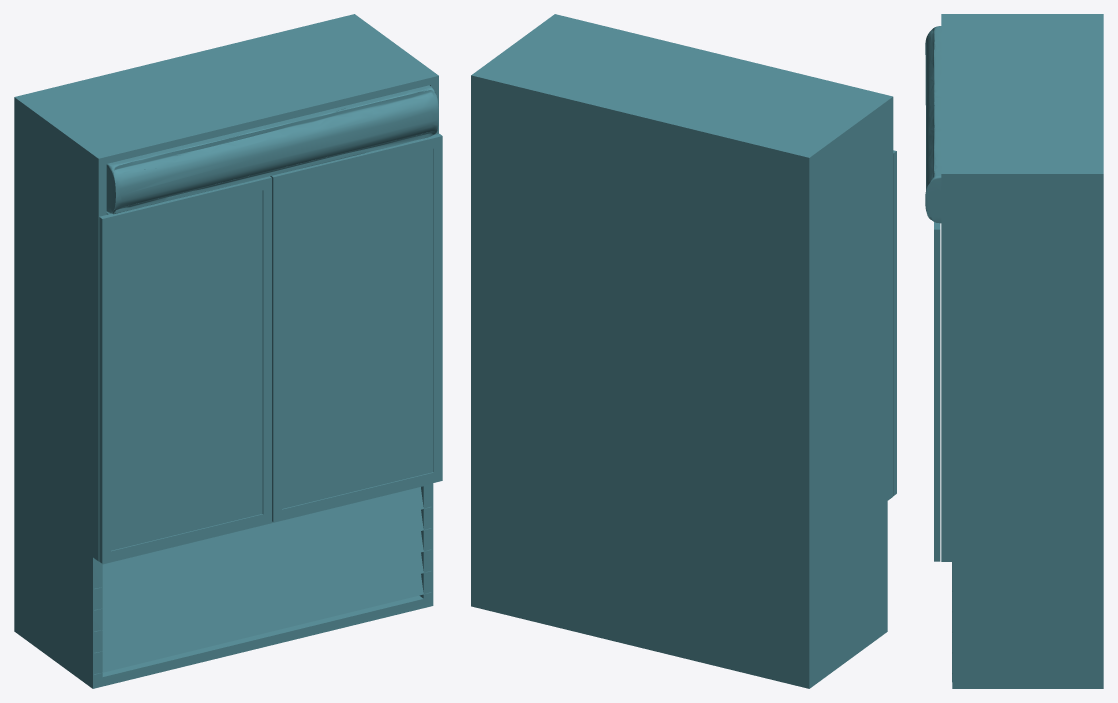
Rendered from walk_in_cooler.glb.
3 renders of one model, left to right at view 1: azimuth 30°, elevation 25°; view 2: azimuth 150°, elevation 25°; view 3: azimuth 270°, elevation 25°, orthographic. The views are drawn at different scales.
Parts seen in each view (by area): view 1: body, door_l_mesh, door_r_mesh; view 2: body, door_l_mesh; view 3: body, door_r_mesh.
Part boxes in pixels (bbox=[...]): body: bbox=[14, 14, 438, 688]; door_l_mesh: bbox=[99, 170, 273, 563]; door_r_mesh: bbox=[272, 131, 442, 521]; body: bbox=[471, 14, 893, 688]; door_l_mesh: bbox=[893, 150, 896, 495]; body: bbox=[925, 14, 1103, 688]; door_r_mesh: bbox=[929, 216, 941, 561].
Bounding box in the file's own units: 1.7 × 2.55 × 0.8013.
